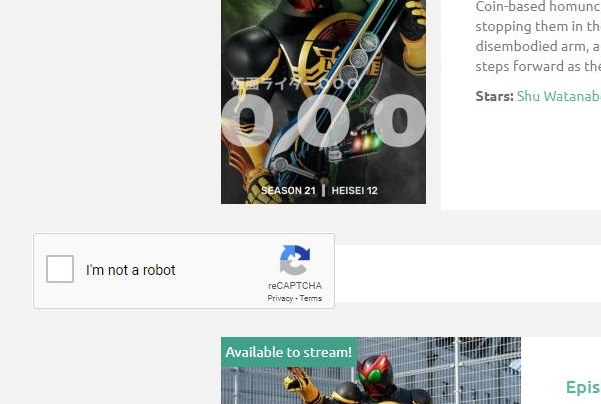captcha: (46, 255, 180, 283)
